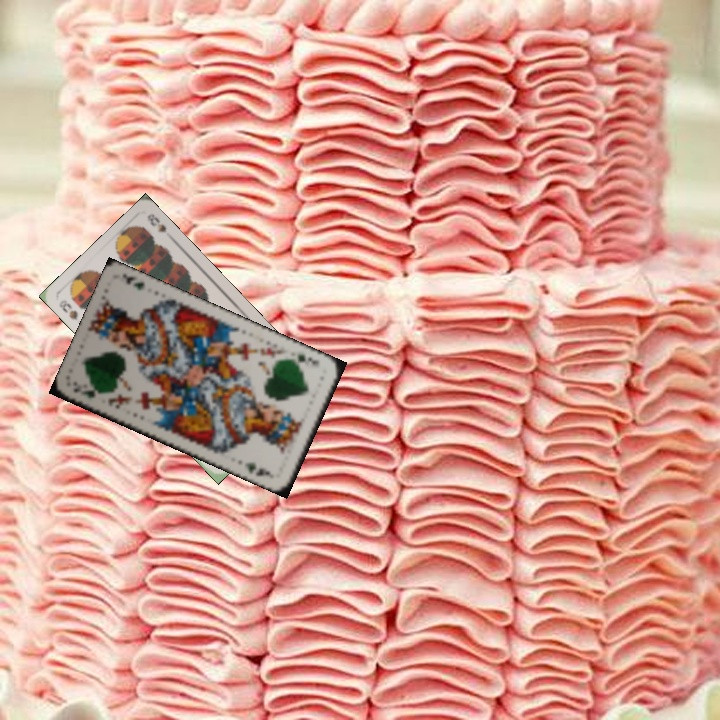GK: (68, 378, 106, 401), (286, 350, 322, 368)
S8: (55, 295, 80, 323)
